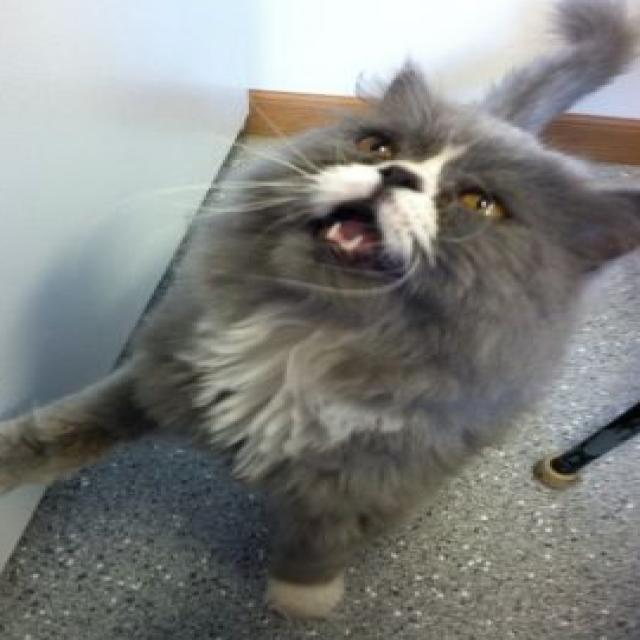Persian: (0, 0, 640, 624)
